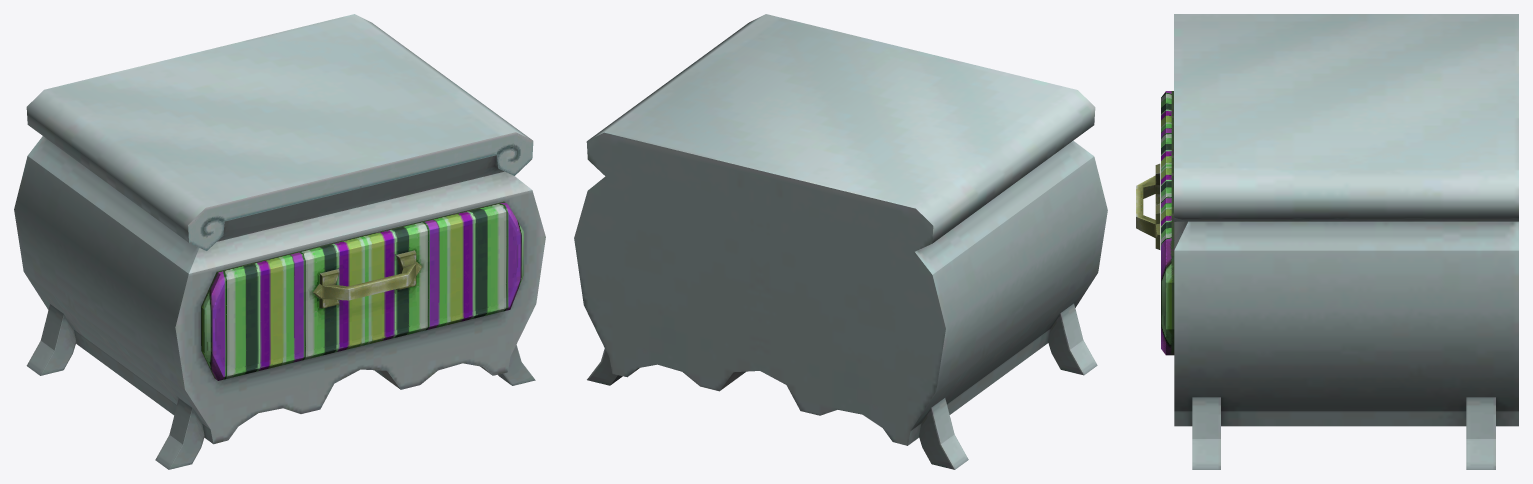
Rendered from furni_0200608_01.FBX.
3 renders of one model, left to right at view 1: azimuth 30°, elevation 25°; view 2: azimuth 150°, elevation 25°; view 3: azimuth 270°, elevation 25°, orthographic. The views are drawn at different scales.
Parts seen in each view (by area): view 1: furni_0200608_01; view 2: furni_0200608_01; view 3: furni_0200608_01.
Boxes of the visible parts, x1,y1,x2,y2 form: furni_0200608_01: (14, 14, 545, 469); furni_0200608_01: (574, 14, 1107, 469); furni_0200608_01: (1136, 14, 1518, 469).
Bounding box in the file's own units: 74.18 × 50 × 62.13.
1 material, 1 textured.
